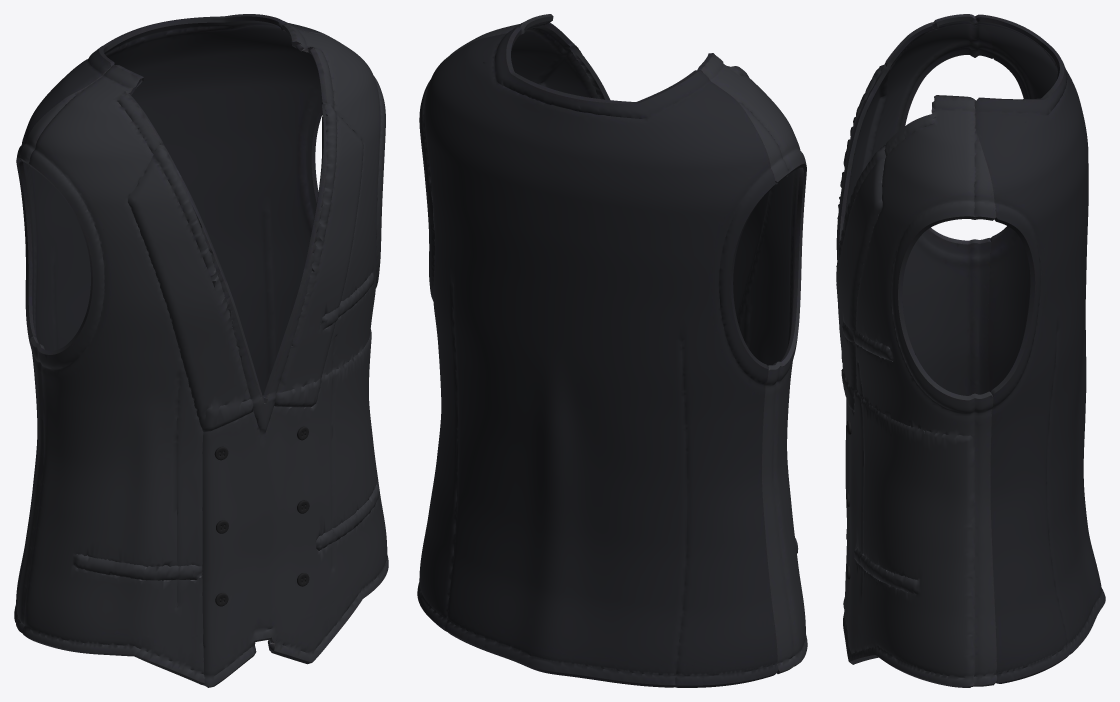
The model's file is 04_chaleco_traje_pbr.glb.
3 views of the same model, side by side, from view 1: azimuth 30°, elevation 25°; view 2: azimuth 150°, elevation 25°; view 3: azimuth 270°, elevation 25° (orthographic). The views are drawn at different scales.
Visible parts, largest first — view 1: Camiseta PBR, Botones; view 2: Camiseta PBR; view 3: Camiseta PBR.
Part boxes in pixels (x1=…): Camiseta PBR: x1=14, y1=14, x2=388, y2=687; Botones: x1=214, y1=426, x2=309, y2=606; Camiseta PBR: x1=417, y1=14, x2=807, y2=687; Camiseta PBR: x1=836, y1=14, x2=1105, y2=687.
Size of the model in its own units: 0.3953 by 0.6243 by 0.2611.
2 materials, 1 textured.
